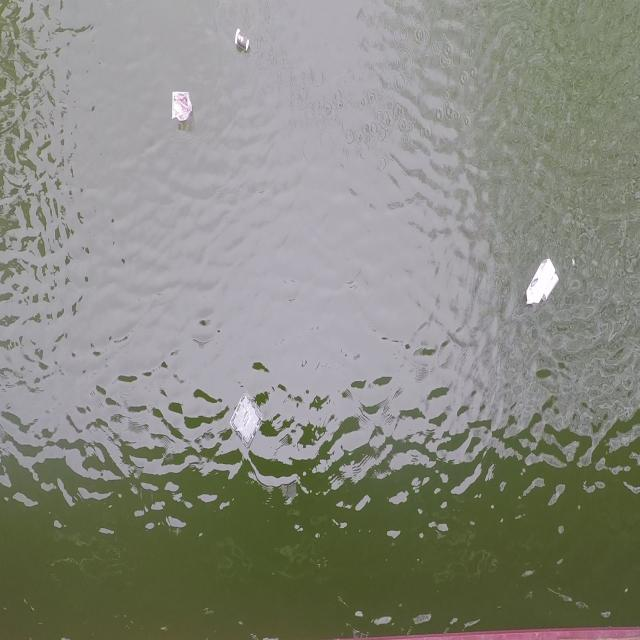Autre plastique: (226, 388, 266, 452), (166, 88, 197, 127)
Non plastique: (231, 27, 251, 59)
